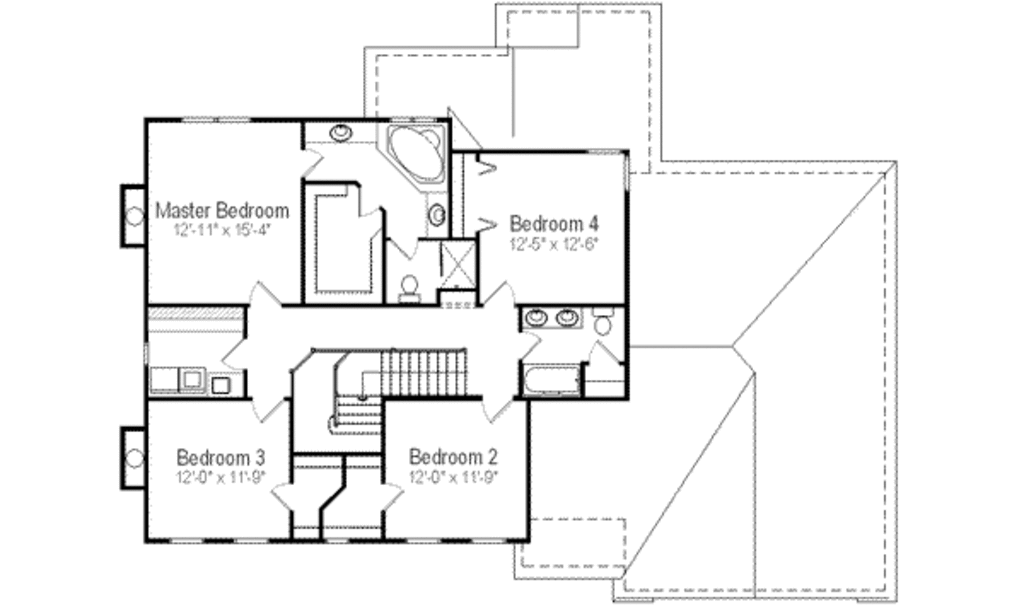door: (246, 391, 283, 427), (474, 394, 512, 426), (478, 279, 518, 309), (247, 275, 282, 309), (377, 478, 406, 516), (383, 232, 422, 260), (216, 340, 250, 368), (265, 477, 291, 512), (301, 149, 326, 181)
large_sink: (585, 304, 619, 338), (392, 273, 423, 304)
small_sink: (303, 118, 376, 147), (519, 304, 582, 330), (424, 190, 448, 240)
stairs: (329, 346, 467, 439)
tub: (378, 120, 446, 192), (521, 360, 582, 398)
windows: (401, 533, 509, 549), (163, 536, 270, 548), (180, 115, 254, 124)
